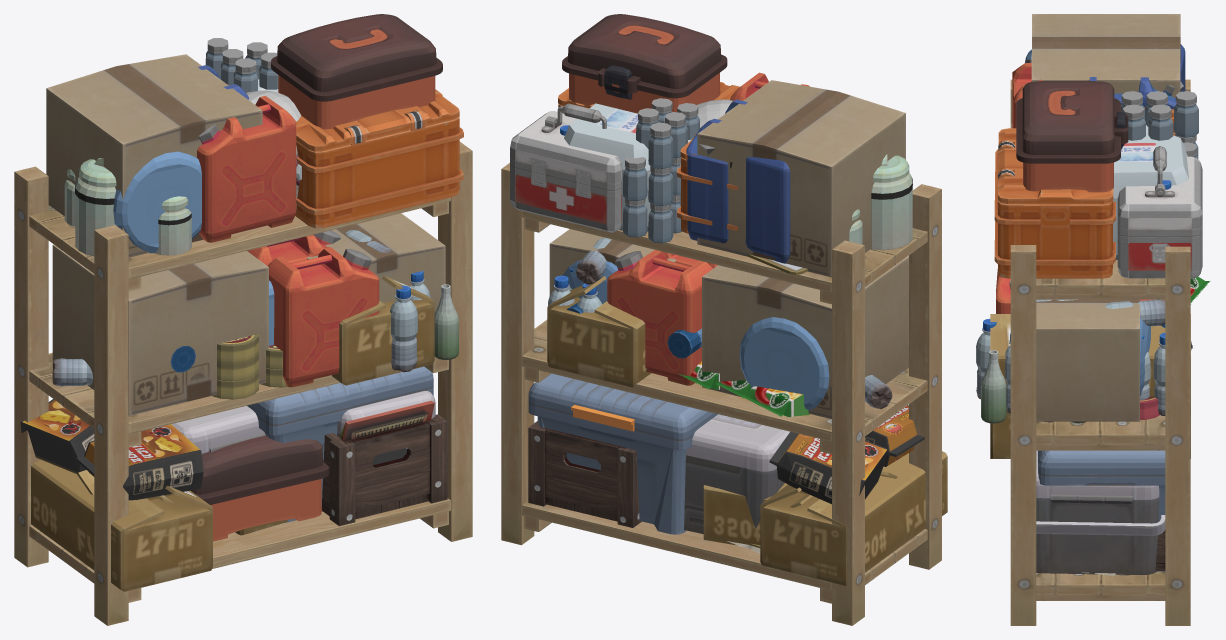
Rendered from Home_06.obj.
3 renders of one model, left to right at view 1: azimuth 30°, elevation 25°; view 2: azimuth 150°, elevation 25°; view 3: azimuth 270°, elevation 25°, orthographic. The views are drawn at different scales.
Bounding box in the file's own units: 1.87 × 2.42 × 1.07.
149 materials, 149 textured.
